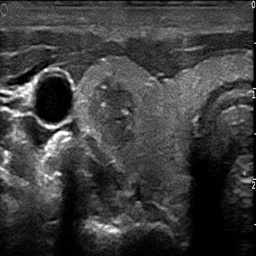mass: (90, 83, 134, 145)
